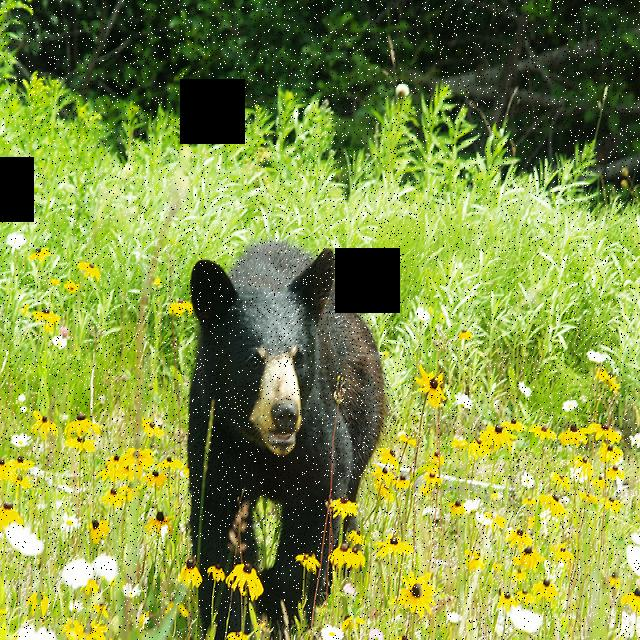Bear: (180, 235, 388, 630)
